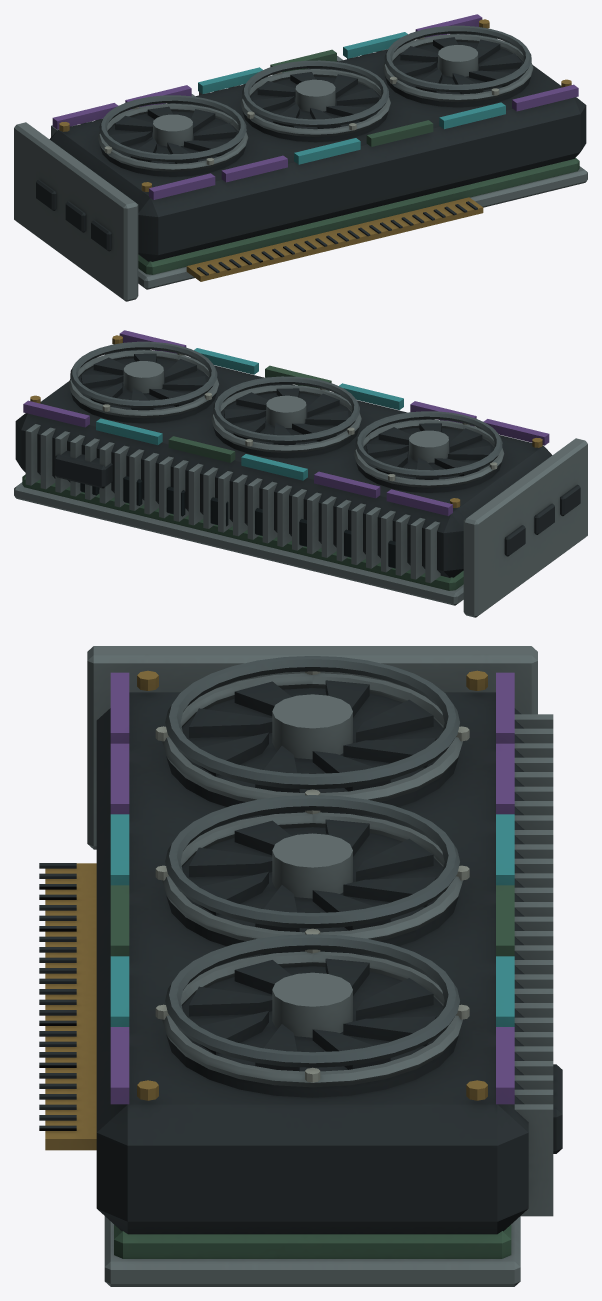
Rendered from graphics_card.glb.
The picture shows the model from 3 angles, top to bottom: view 1: azimuth 30°, elevation 25°; view 2: azimuth 150°, elevation 25°; view 3: azimuth 270°, elevation 25°; orthographic projection. The views are drawn at different scales.
Parts seen in each view (by area): view 1: graphics_card_static_0; view 2: graphics_card_static_0; view 3: graphics_card_static_0.
Boxes of the visible parts, <box> form: graphics_card_static_0: <box>14,14,587,301</box>; graphics_card_static_0: <box>14,330,587,617</box>; graphics_card_static_0: <box>39,646,562,1286</box>.
Size of the model in its own units: 0.354 by 0.081 by 0.1685.
Materials: 1 (1 with a texture image).
